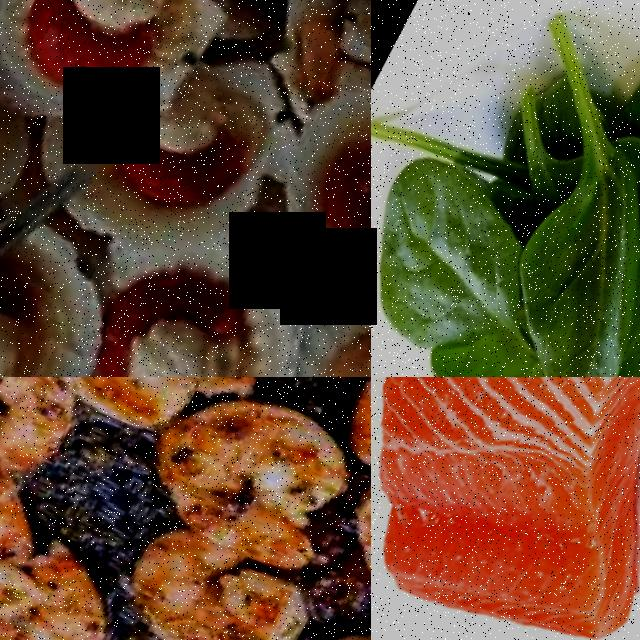salmon: (371, 377, 640, 640)
spinach: (127, 377, 370, 585), (371, 145, 551, 374), (460, 185, 640, 377), (100, 519, 331, 640), (32, 377, 264, 460), (0, 531, 135, 640)
